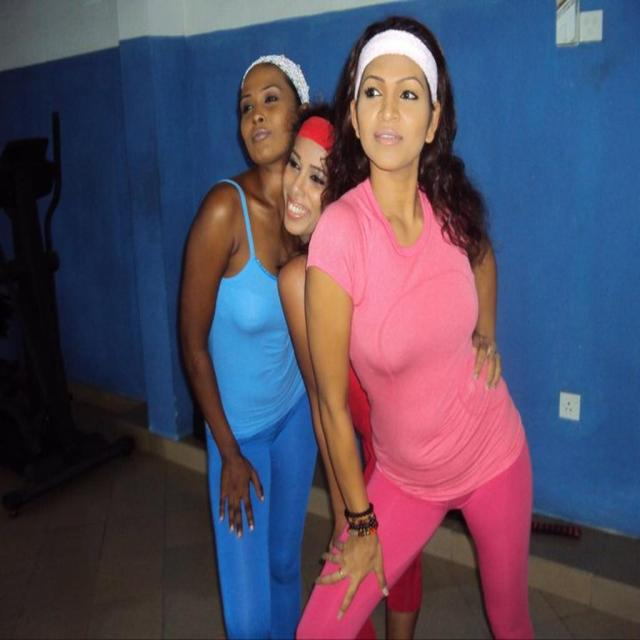Face: (354, 36, 451, 179), (278, 114, 344, 252), (241, 68, 302, 172)
